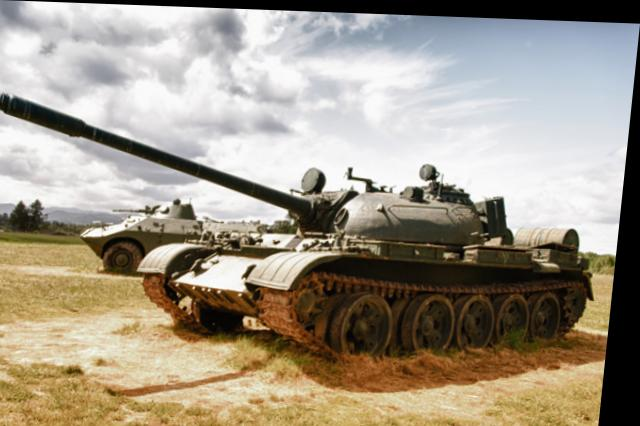tank: (166, 175, 607, 344), (85, 194, 217, 256)
